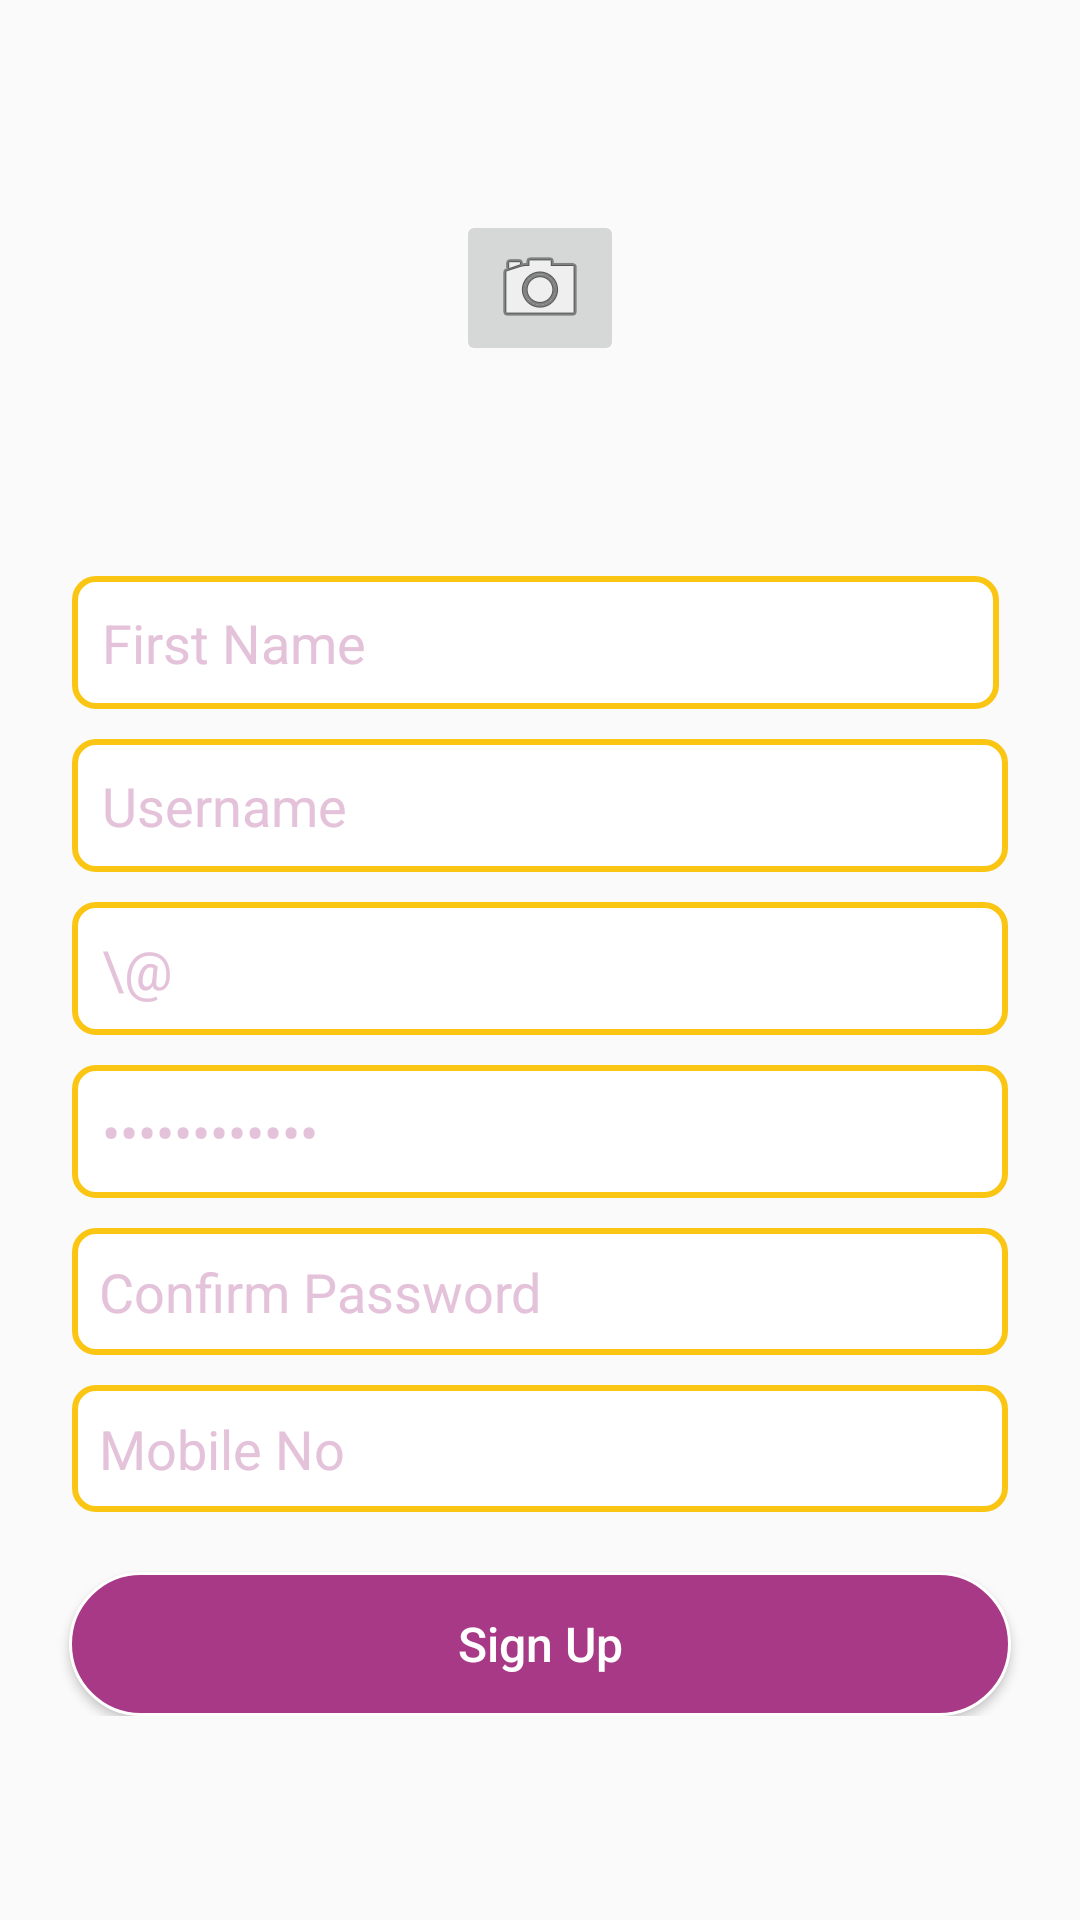

Screen size 1080px x 1920px. Icon name, then its box in pixels as (x1, y1, x2, y2):
camera: (468, 228, 612, 348)
